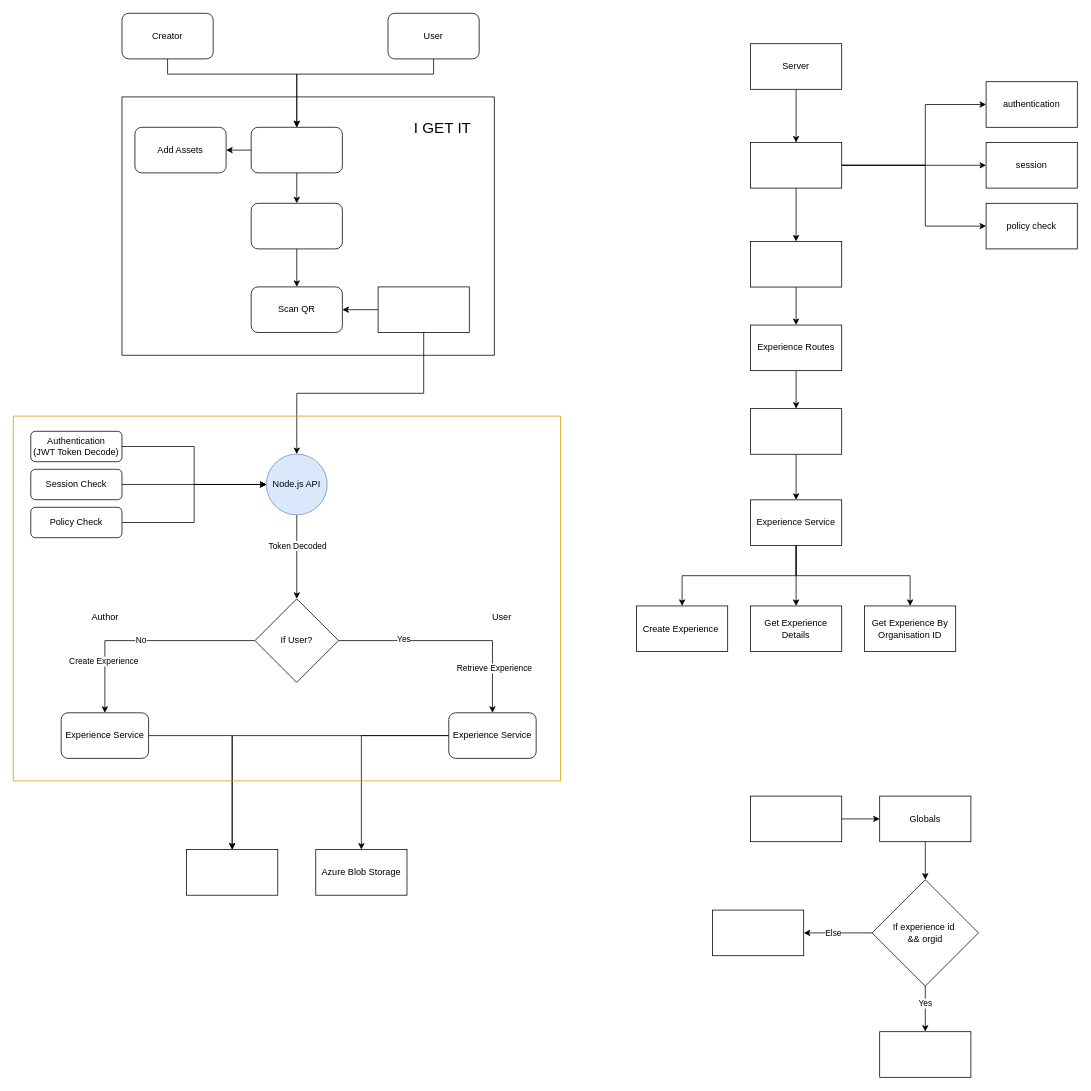
Some shapes in this 1091 by 1091 pixel diagram are drawn without their labels. Each missing label, with the centre of its shape:
"API" goes at point 286,598.
"Azure Sql Database" goes at point 232,872.
"Deeplink Manager" goes at point 796,818.
"Exit" goes at point 758,932.
"Experience Controller" goes at point 796,431.
"GetGuideInfo" goes at point 925,1054.
"JWT Token" goes at point 296,226.
"Login" goes at point 296,150.
"Middleware" goes at point 796,165.
"Pico Device" goes at point 423,309.
"Routes" goes at point 796,264.
